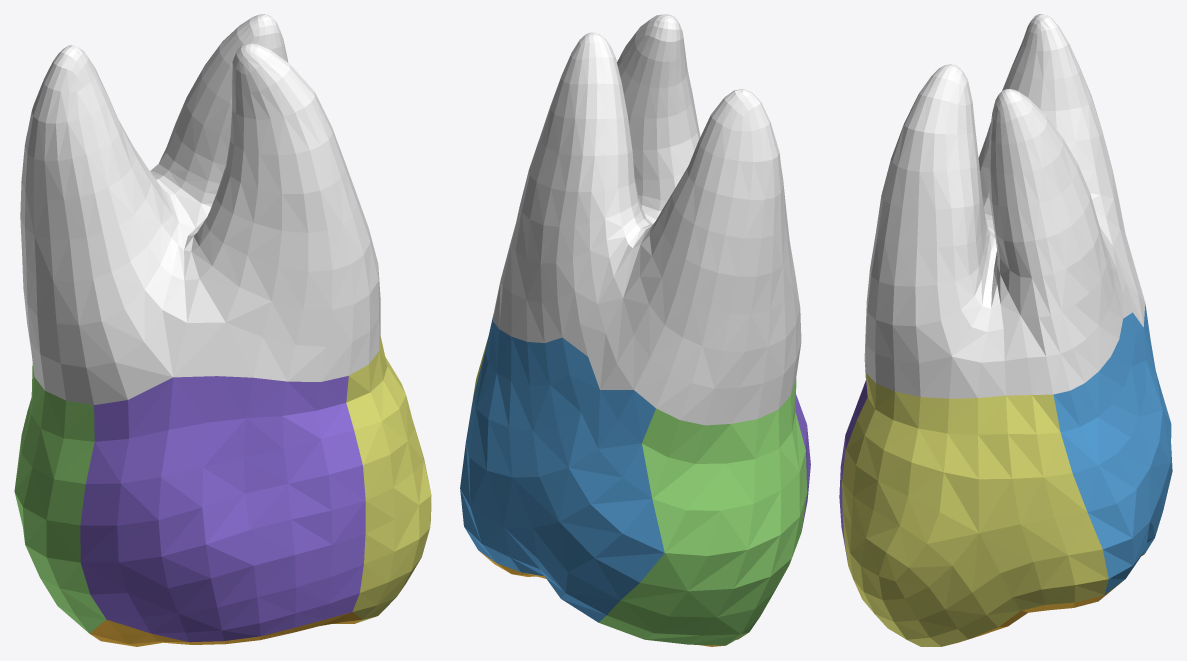
The model's file is tooth_28_annotated.glb.
The picture shows the model from 3 angles, left to right: view 1: azimuth 30°, elevation 25°; view 2: azimuth 150°, elevation 25°; view 3: azimuth 270°, elevation 25°; orthographic projection. The views are drawn at different scales.
Parts seen in each view (by area): view 1: FDI_28; view 2: FDI_28; view 3: FDI_28.
Boxes of the visible parts, x1=… form: FDI_28: x1=14, y1=14, x2=431, y2=646; FDI_28: x1=460, y1=14, x2=810, y2=646; FDI_28: x1=839, y1=14, x2=1172, y2=646.
Bounding box in the file's own units: 0.00814 × 0.0139 × 0.00765.
